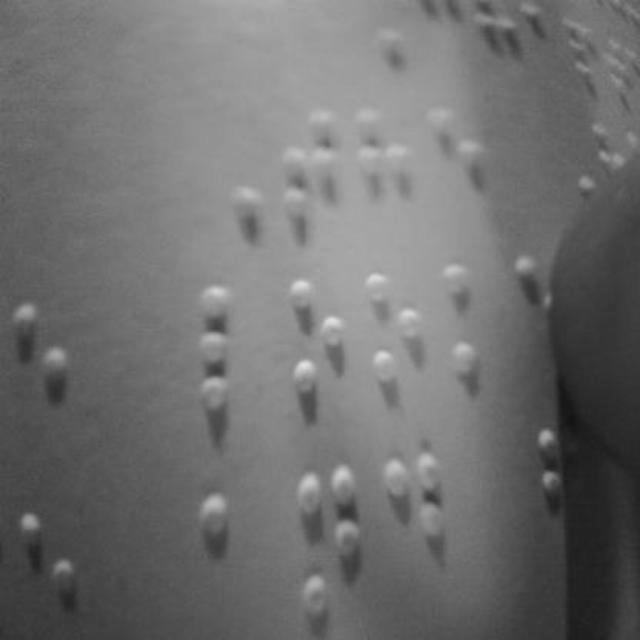braiile: (291, 464, 374, 626), (379, 447, 457, 605), (192, 481, 272, 625), (440, 258, 512, 398), (279, 276, 351, 414), (358, 268, 430, 406), (192, 282, 264, 416), (7, 294, 71, 444), (276, 102, 344, 235), (425, 100, 491, 226), (348, 104, 412, 230)
